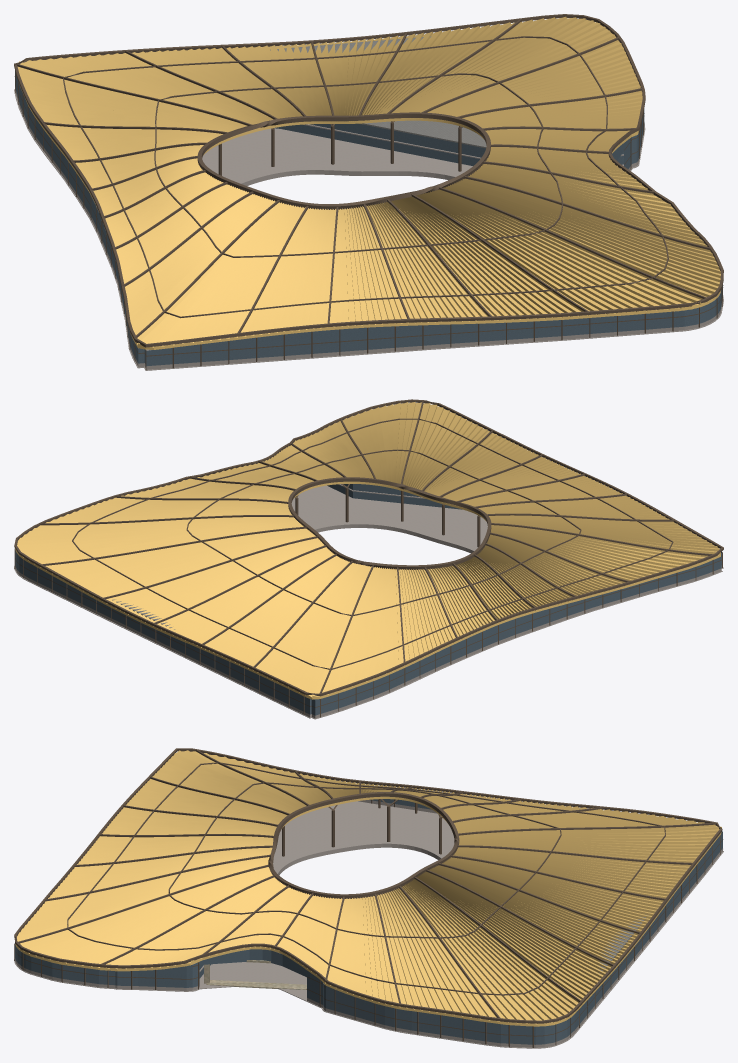
Rendered from la-canopee-des-halles.glb.
3 views of the same model, one above another, from view 1: azimuth 30°, elevation 25°; view 2: azimuth 150°, elevation 25°; view 3: azimuth 270°, elevation 25° (orthographic). The views are drawn at different scales.
Visible parts, largest first — view 1: trim, metal, glass, stone, roof; view 2: trim, metal, glass, stone; view 3: trim, metal, stone, glass, entrance.
Boxes of the visible parts, box(x1,y1,x2,y2) form: trim: box(17, 16, 720, 349); metal: box(14, 14, 723, 369); glass: box(15, 70, 722, 366); stone: box(14, 87, 723, 370); roof: box(270, 36, 486, 148); trim: box(15, 402, 720, 699); metal: box(14, 399, 723, 717); glass: box(14, 484, 721, 715); stone: box(14, 484, 723, 719); trim: box(15, 750, 721, 1026); metal: box(14, 748, 723, 1047); stone: box(14, 800, 723, 1048); glass: box(14, 799, 722, 1044); entrance: box(204, 960, 306, 989).
Size of the model in its own units: 165 by 15.3 by 177.
6 materials, 6 textured.
